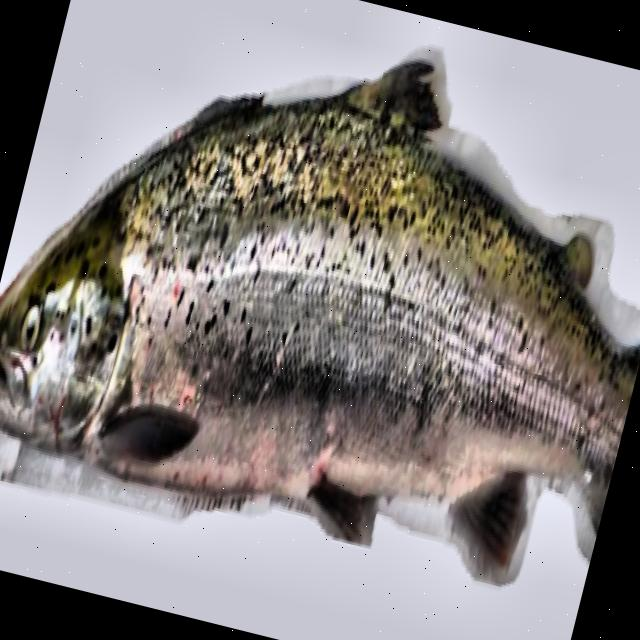mild_red: (129, 95, 640, 510)
